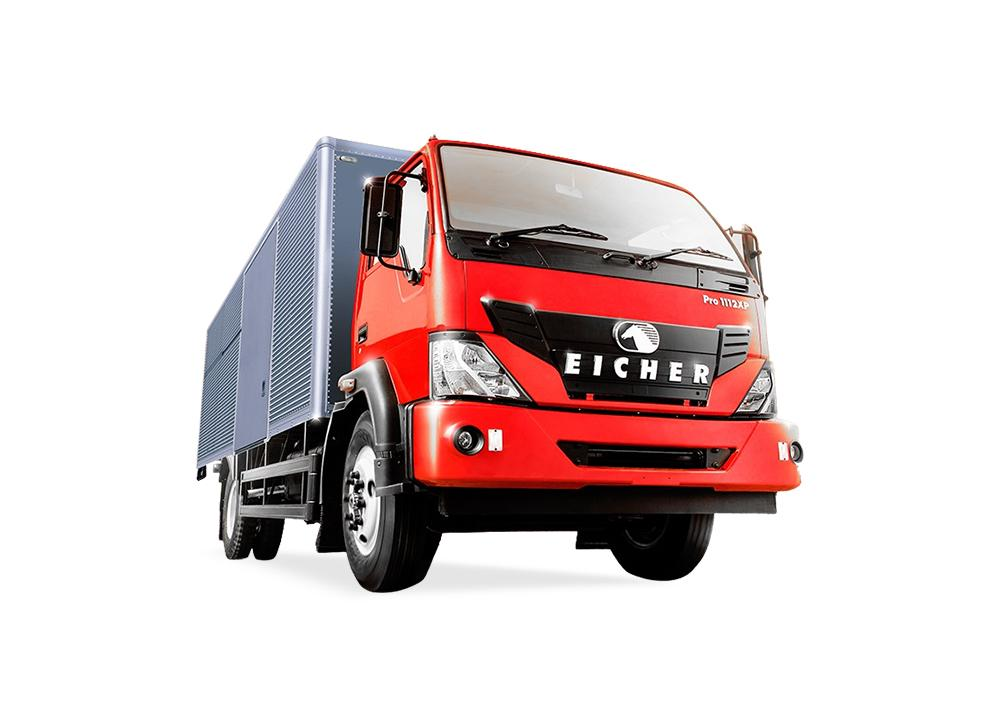truck: (196, 136, 802, 593)
